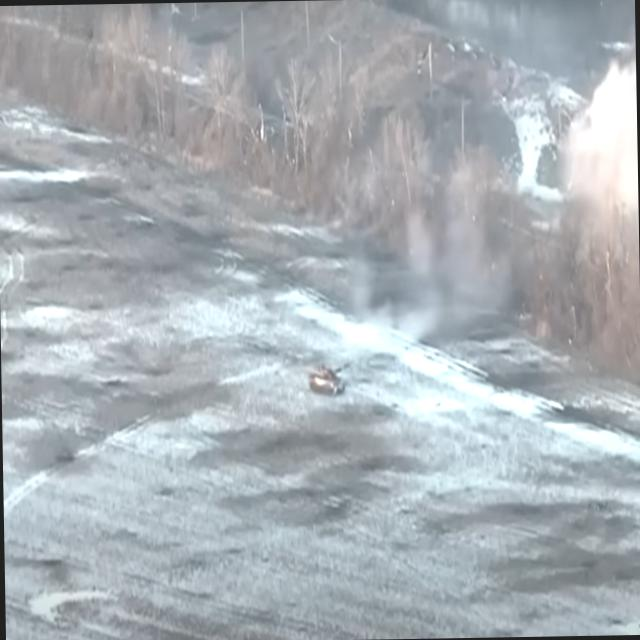MBT: (305, 357, 358, 398)
